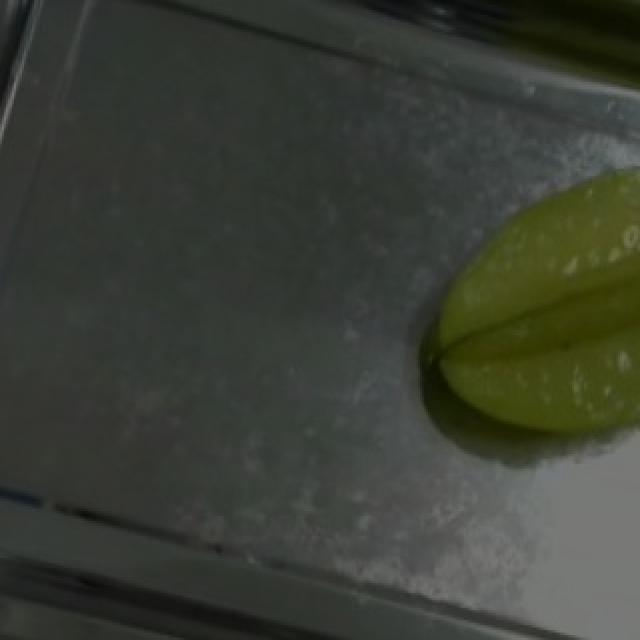fruit: (398, 124, 640, 479)
